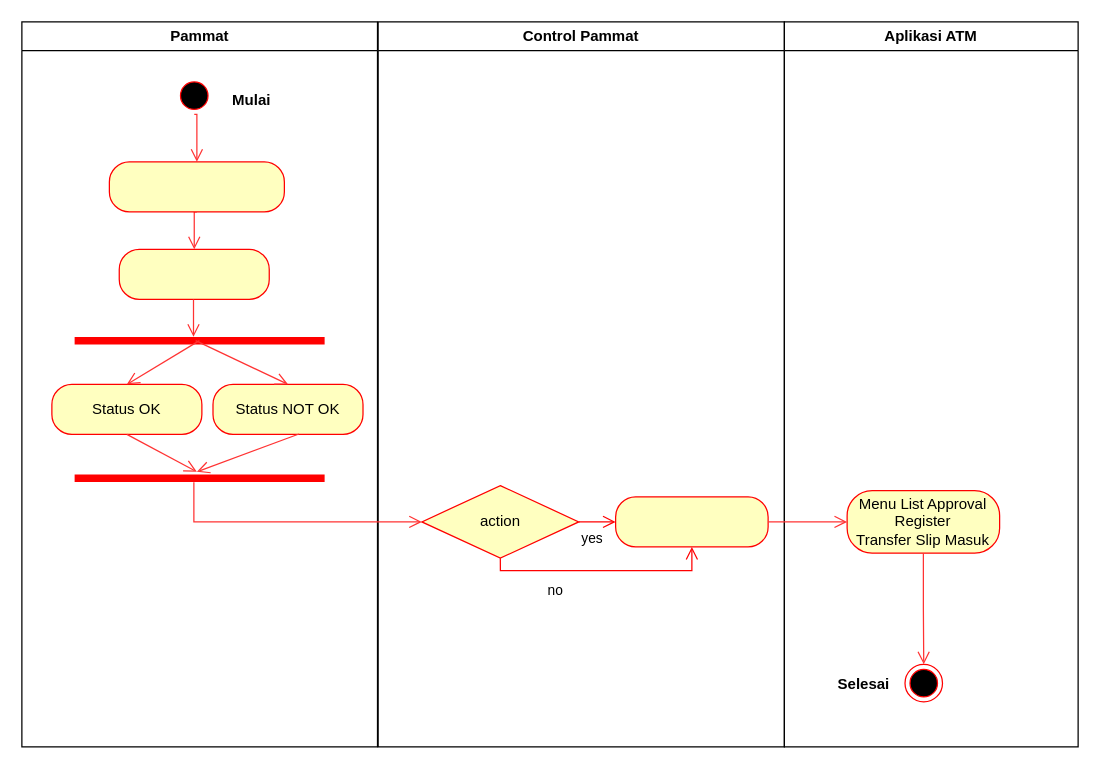
Some shapes in this 1100 by 769 pixel diagram are drawn without their labels. The shapes that lost their labels are listed below. From the top down, each one's centre as x and y in pixels, then its label:
At [196,186]: "List Approval Register Transfer Slip Masuk".
At [193,273]: "Pilih Order".
At [691,521]: "Notif ke Pamfik".
